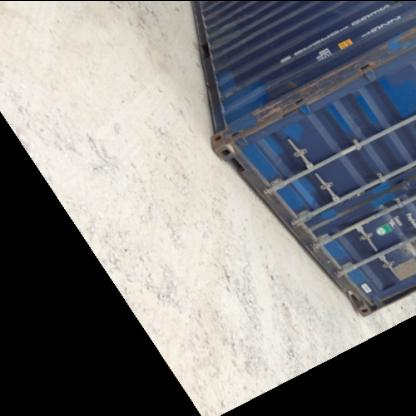Damage: (257, 61, 387, 123), (365, 30, 415, 60)
